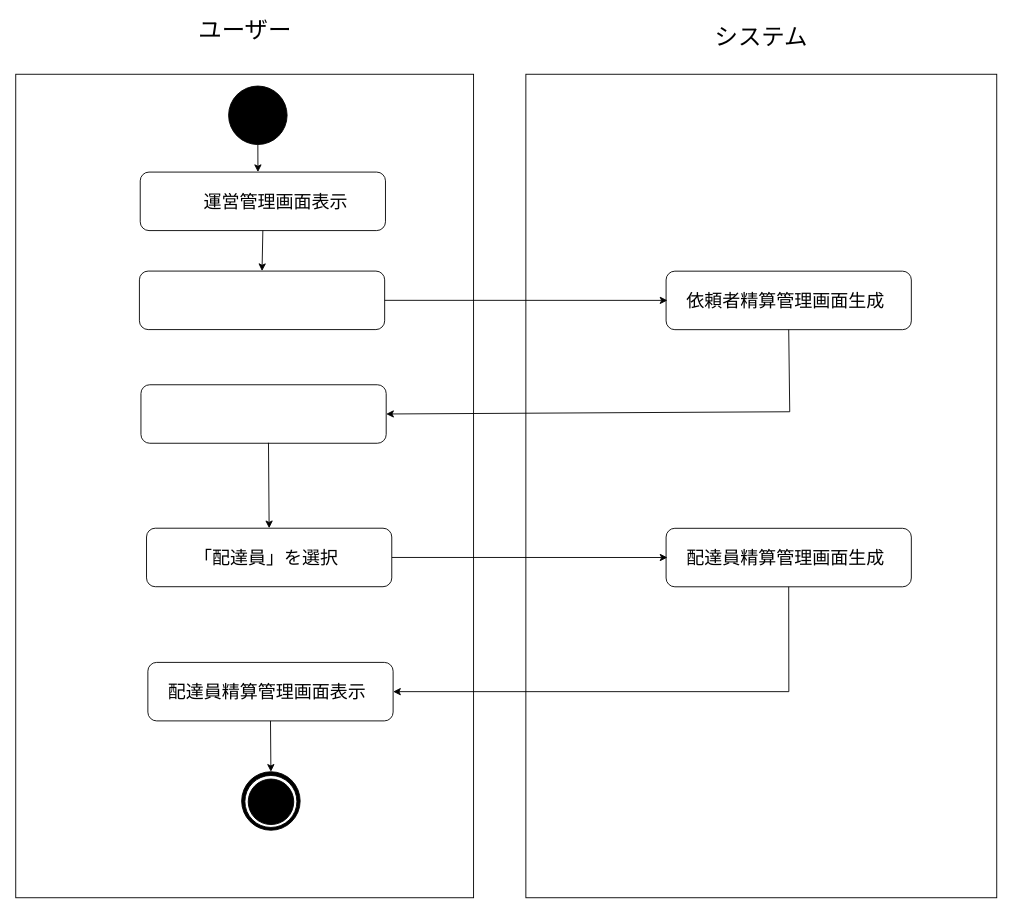
Image size: 1013x914. Some labels were removed from this diagram. Here are the shapes that lost their labels. From the top down, the centre of each, then its label:
the point at 262,300: 「精算管理」を選択
the point at 263,413: 依頼者精算管理画面表示
